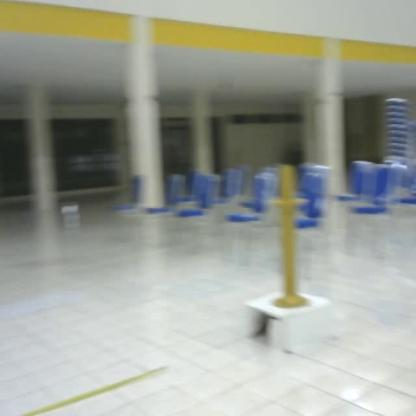pole: (264, 162, 315, 317)
